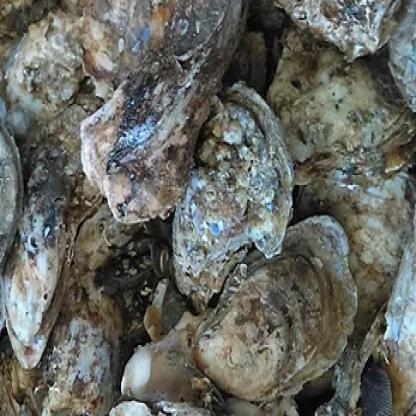Oyster- Indeterminate: (4, 105, 102, 370), (292, 173, 416, 352), (0, 119, 24, 333)
Oyster-Closed: (79, 0, 252, 225), (189, 218, 358, 402), (172, 84, 293, 312), (264, 23, 416, 187), (0, 269, 123, 416), (63, 0, 177, 90), (110, 45, 185, 163), (4, 14, 84, 123), (273, 0, 414, 58), (73, 204, 146, 272), (161, 0, 229, 59), (389, 0, 416, 111), (223, 32, 267, 97)
